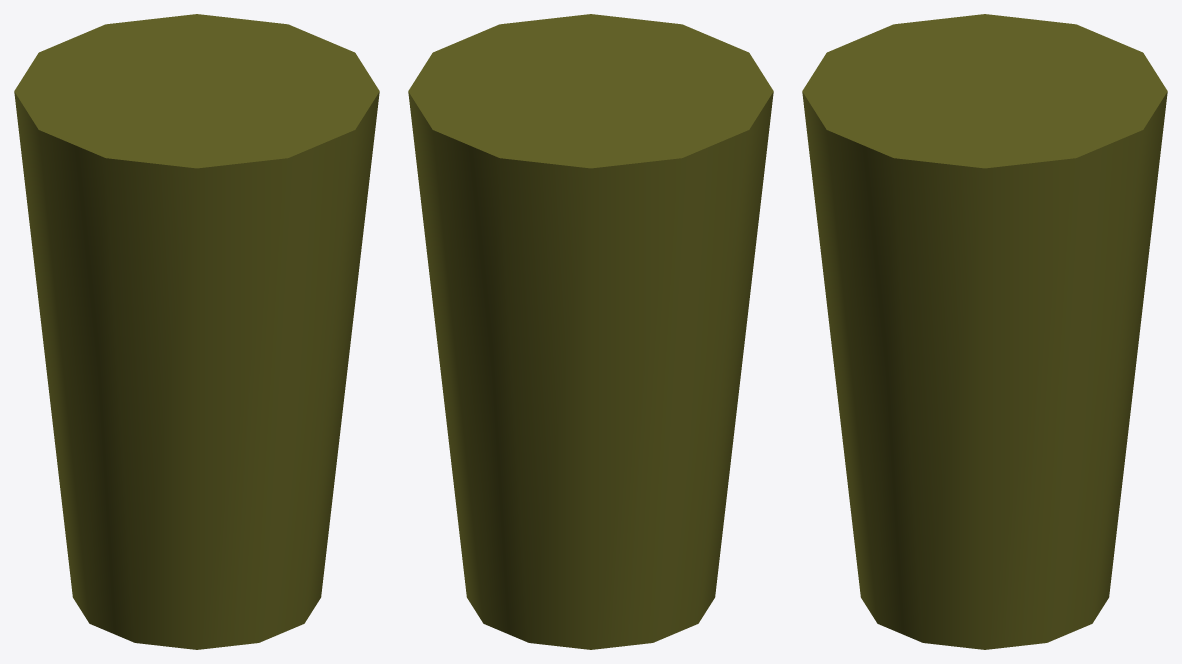
Rendered from blockout_Pot.fbx.
3 views of the same model, side by side, from view 1: azimuth 30°, elevation 25°; view 2: azimuth 150°, elevation 25°; view 3: azimuth 270°, elevation 25° (orthographic).
Parts seen in each view (by area): view 1: blockout_Pot; view 2: blockout_Pot; view 3: blockout_Pot.
Boxes of the visible parts, left/top/right/bottom form: blockout_Pot: left=14, top=14, right=379, bottom=649; blockout_Pot: left=408, top=14, right=773, bottom=649; blockout_Pot: left=802, top=14, right=1167, bottom=649.
Bounding box in the file's own units: 35.33 × 54 × 35.33.
Materials: 1 (1 with a texture image).
